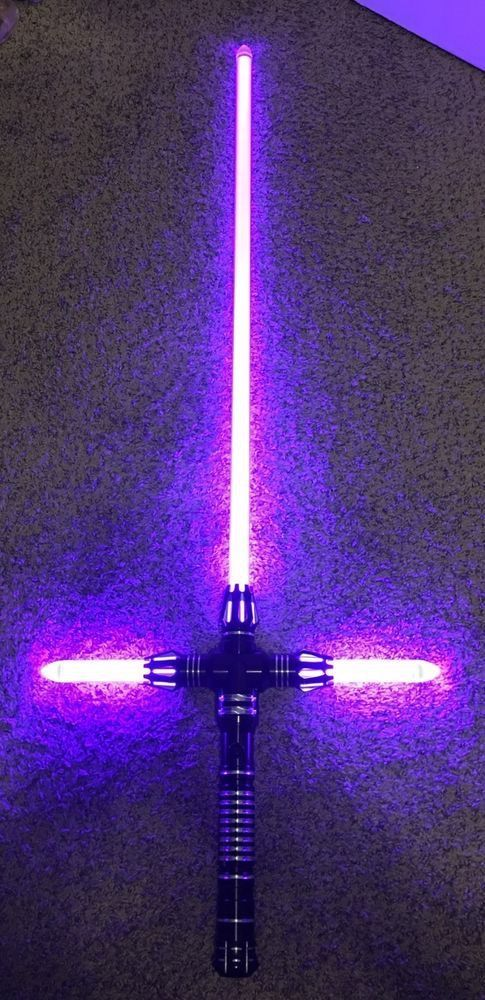lightsaber: (196, 30, 273, 966)
